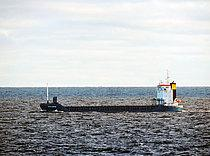Ship: (35, 78, 193, 116)
